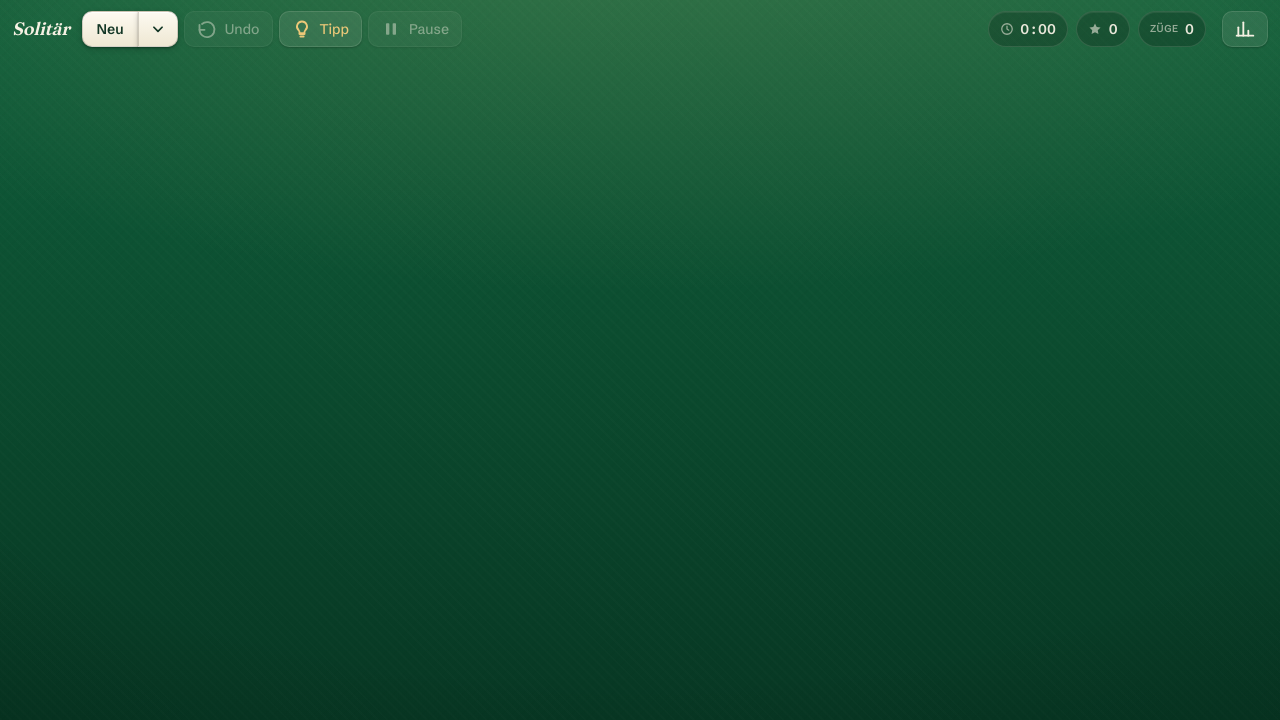
Test: Header › opens the new-game options popover
The image size is (1280, 720).
What coordinates should you click on to do the following:
click the button named "Spieloptionen"
I would click on:
 (158, 29)
Its box is 138,11 -> 178,47.
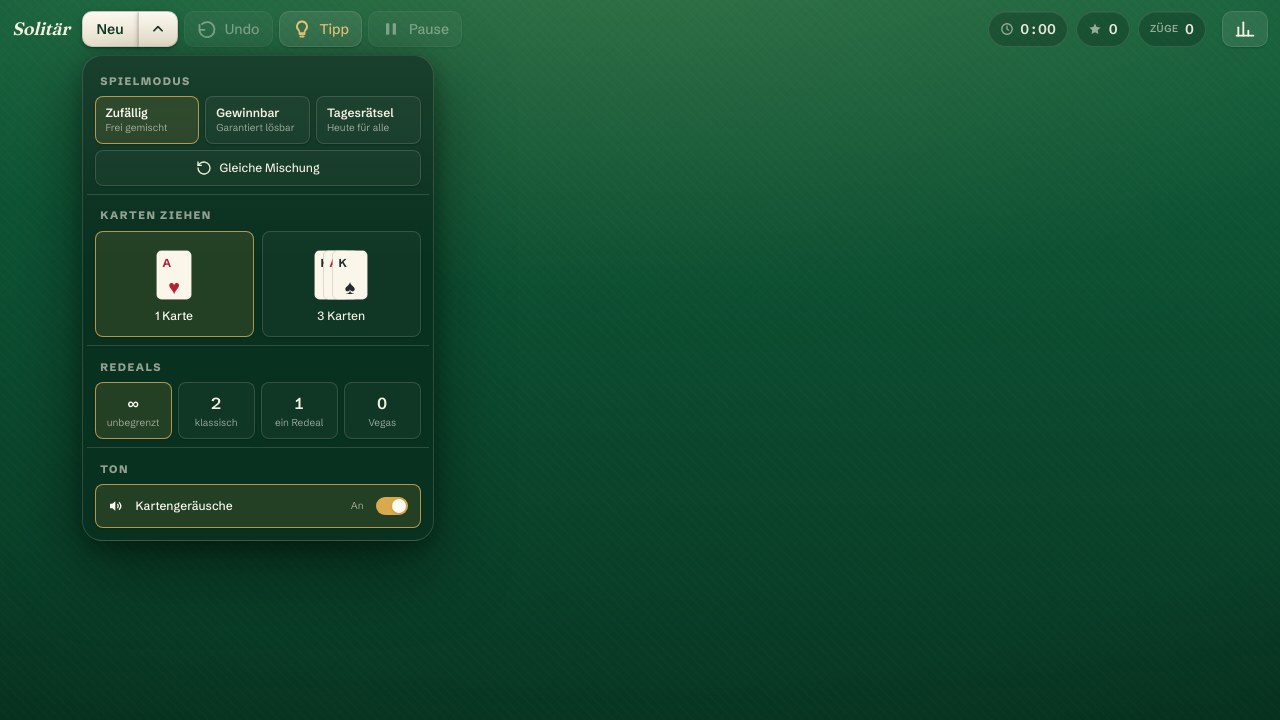
Now the menu is shown, box 82,55 -> 434,541
Now the text "Spielmodus" is shown, box 100,74 -> 191,88
